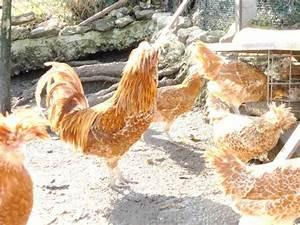hen: (22, 32, 165, 208)
